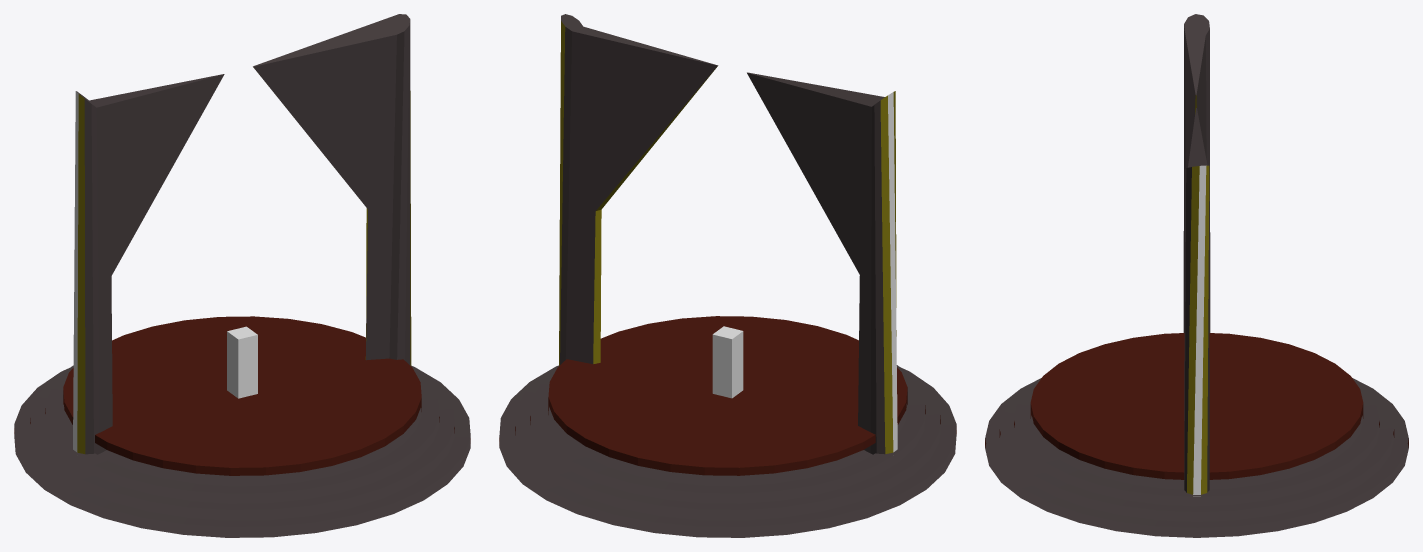
File: Elevator.fbx
The picture shows the model from 3 angles, left to right: view 1: azimuth 30°, elevation 25°; view 2: azimuth 150°, elevation 25°; view 3: azimuth 270°, elevation 25°; orthographic projection. The views are drawn at different scales.
Visible parts, largest first — view 1: Elevator, Pedestral; view 2: Elevator, Pedestral; view 3: Elevator, Pedestral.
Boxes of the visible parts, x1,y1,x2,y2 form: Elevator: (63, 14, 421, 475); Pedestral: (14, 365, 470, 537); Elevator: (548, 14, 907, 475); Pedestral: (499, 365, 956, 537); Elevator: (1030, 14, 1363, 496); Pedestral: (985, 378, 1408, 537).
Size of the model in its own units: 255 by 239 by 255.
